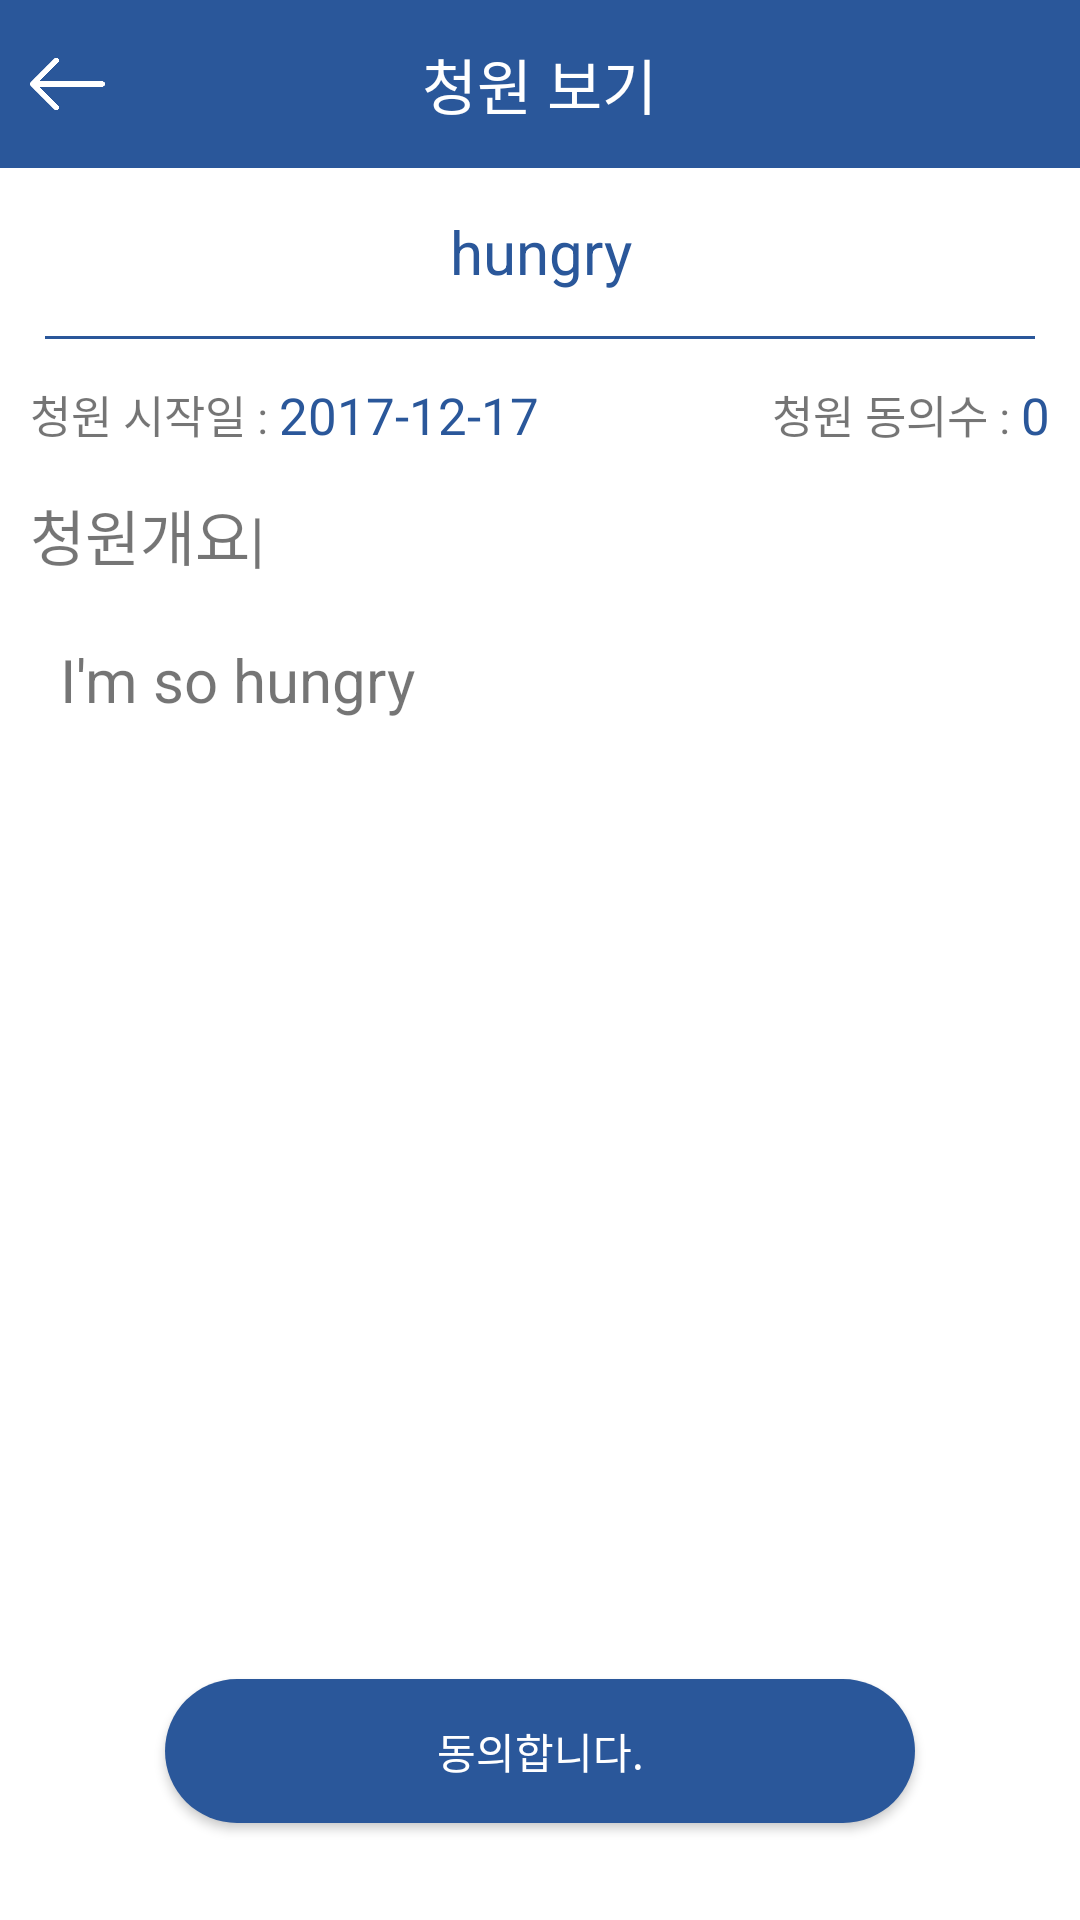

Where icons sit on this 1080×1920 app screen, as (x1, y1, x2, y2):
back: (30, 58, 105, 110)
